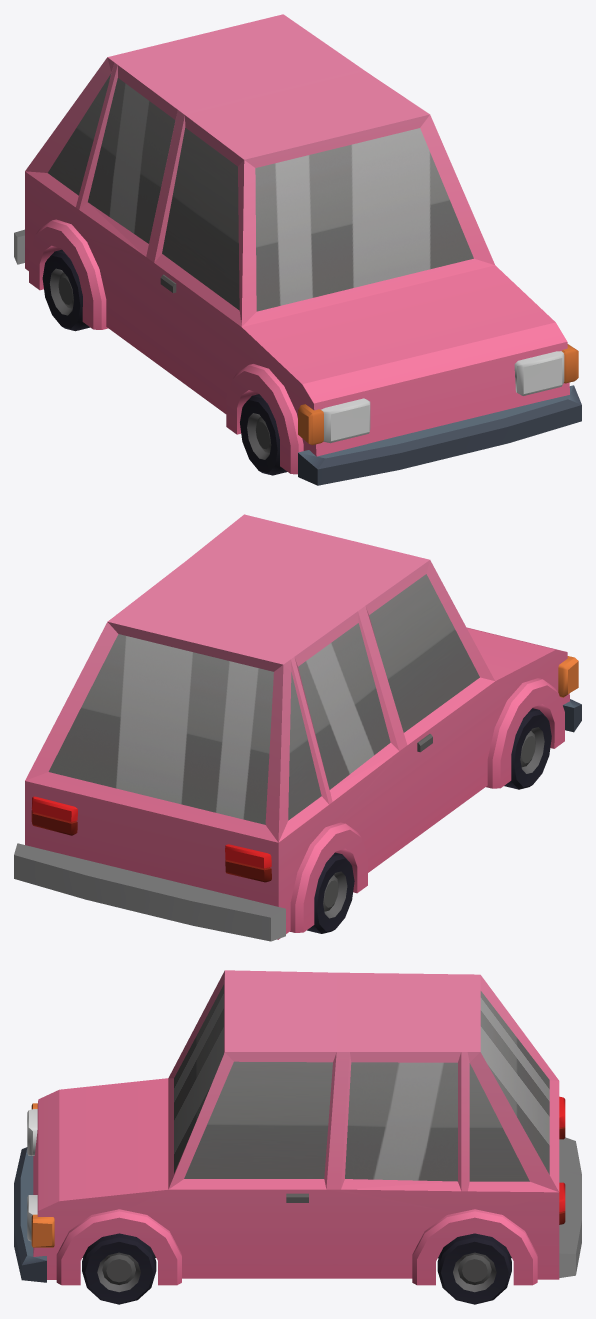
File: Car_1_9.fbx
The picture shows the model from 3 angles, top to bottom: view 1: azimuth 30°, elevation 25°; view 2: azimuth 150°, elevation 25°; view 3: azimuth 270°, elevation 25°; orthographic projection. The views are drawn at different scales.
Visible parts, largest first — view 1: Car_1_9, Wheel_Br, Wheel_Fr; view 2: Car_1_9, Wheel_Fr, Wheel_Br; view 3: Car_1_9, Wheel_Fl, Wheel_Bl.
Part boxes in pixels (x1=…): Car_1_9: x1=14, y1=14, x2=581, y2=485; Wheel_Br: x1=42, y1=249, x2=89, y2=331; Wheel_Fr: x1=240, y1=394, x2=287, y2=475; Car_1_9: x1=14, y1=514, x2=581, y2=941; Wheel_Fr: x1=504, y1=708, x2=551, y2=789; Wheel_Br: x1=307, y1=852, x2=354, y2=933; Car_1_9: x1=14, y1=970, x2=581, y2=1285; Wheel_Fl: x1=82, y1=1233, x2=156, y2=1304; Wheel_Bl: x1=437, y1=1233, x2=511, y2=1304.
Size of the model in its own units: 1.05 by 0.9433 by 2.07.
